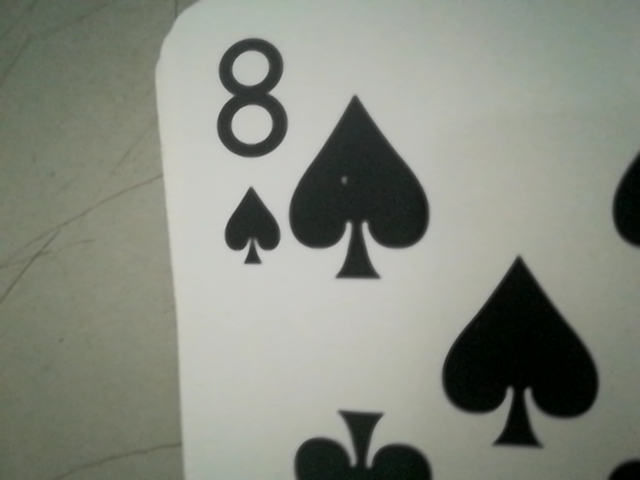ht 8: (195, 18, 306, 257)
